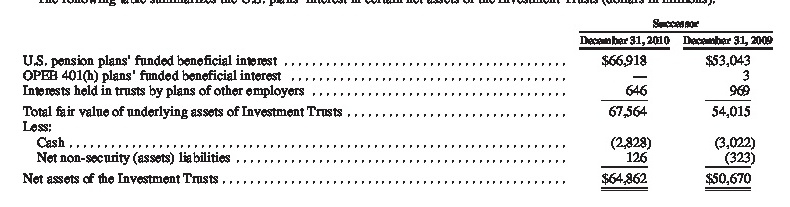table: (0, 0, 790, 207)
